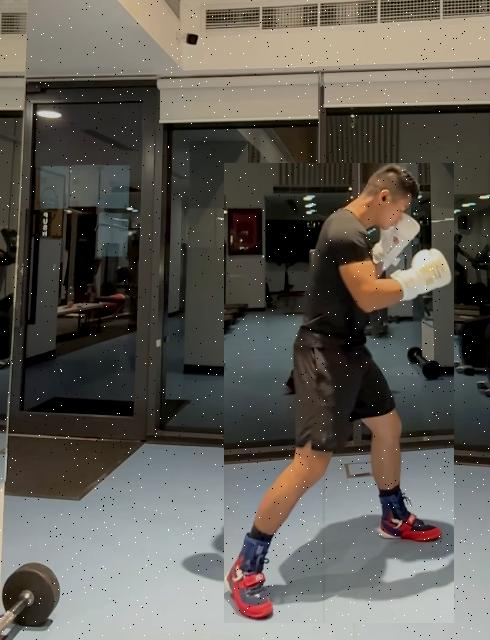punch: (224, 163, 454, 623)
